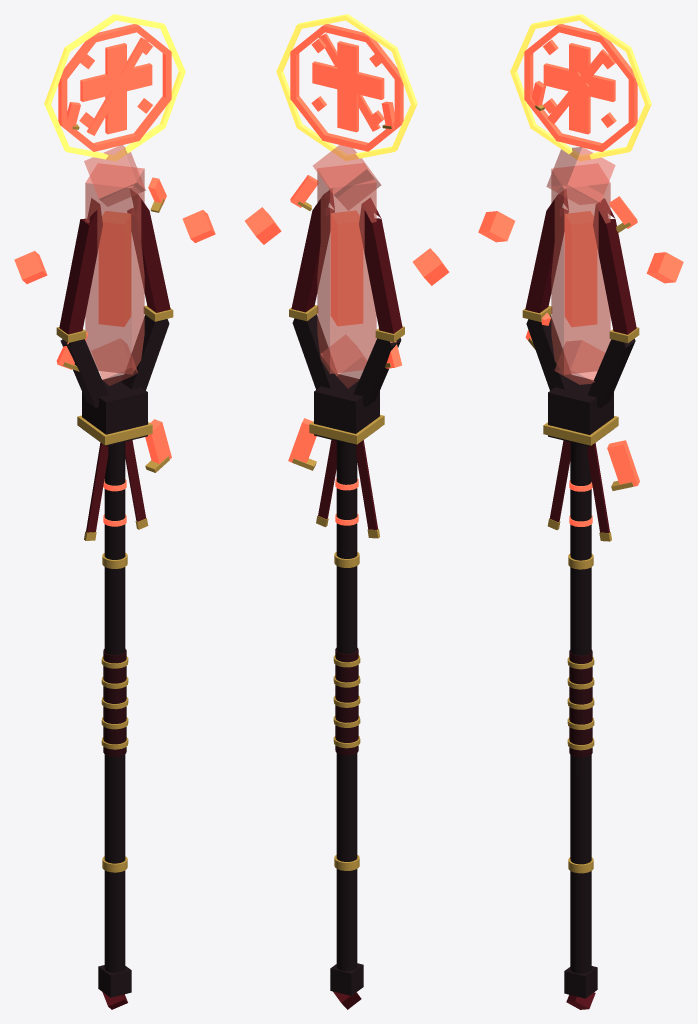
3 views of the same model, side by side, from view 1: azimuth 30°, elevation 25°; view 2: azimuth 150°, elevation 25°; view 3: azimuth 330°, elevation 25° (orthographic).
Parts seen in each view (by area): view 1: pyre-crystal-staff; view 2: pyre-crystal-staff; view 3: pyre-crystal-staff.
Boxes of the visible parts, x1=… form: pyre-crystal-staff: x1=14, y1=14, x2=215, y2=1009; pyre-crystal-staff: x1=245, y1=14, x2=449, y2=1009; pyre-crystal-staff: x1=478, y1=14, x2=683, y2=1009.
Size of the model in its own units: 0.4836 by 2.35 by 0.1526.
